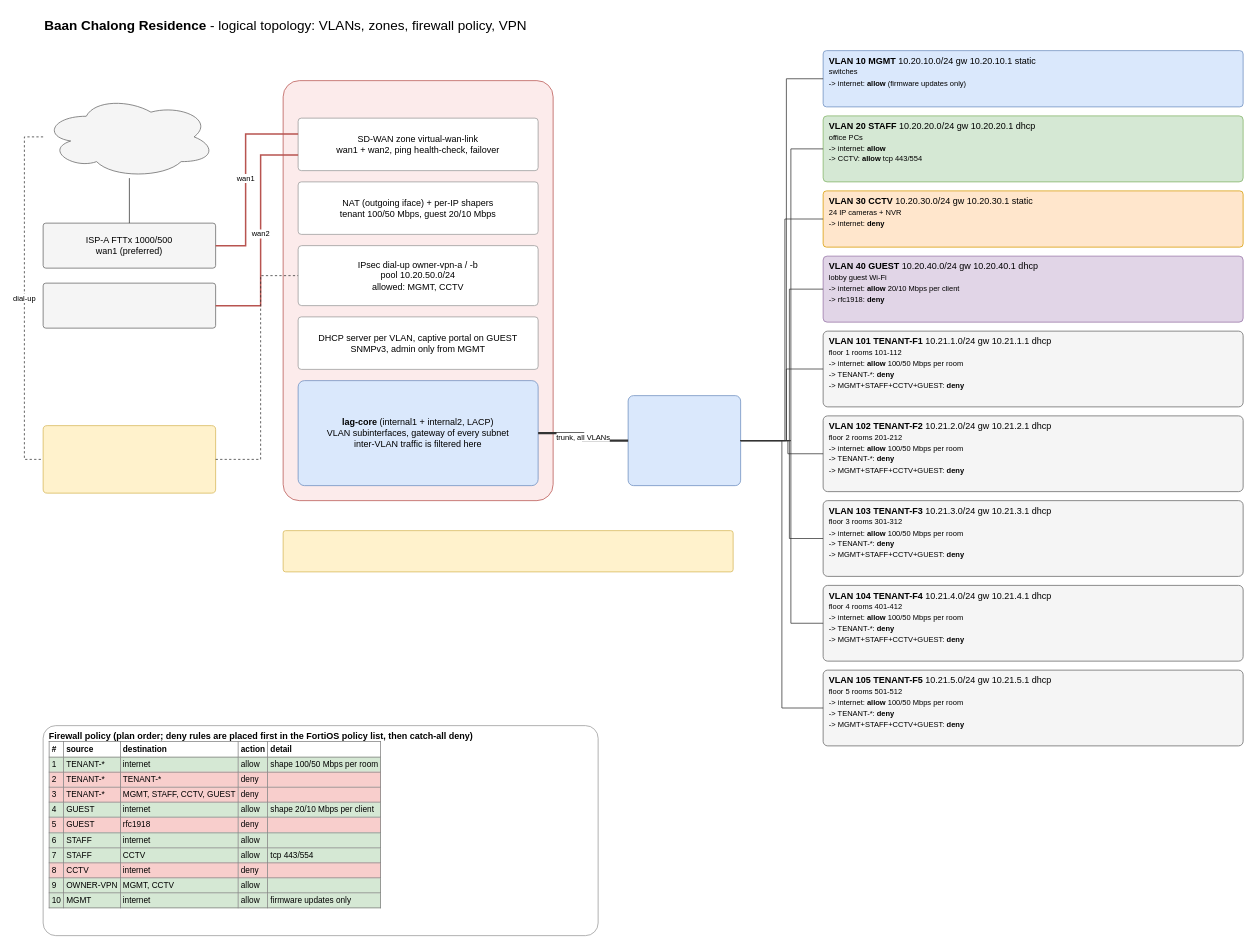
Some shapes in this 1256 by 949 pixel diagram are drawn without their labels. Each missing label, with the box of its shape:
fw-edge FortiGate 60F (10.20.10.1): (282, 80, 553, 501)
Internet (ISP-A and ISP-B): (42, 95, 216, 178)
ISP-B FTTx 500/500 wan2 (failover): (42, 282, 216, 328)
Owner laptop FortiClient IPsec (IKEv2) pool 10.20.50.0/24: (42, 425, 216, 493)
OWNER-VPN 10.20.50.0/24 -> MGMT+CCTV: allow: (282, 530, 733, 572)
sw-core L2 only 10.20.10.2 Po1 trunk to fw: (627, 395, 741, 486)
